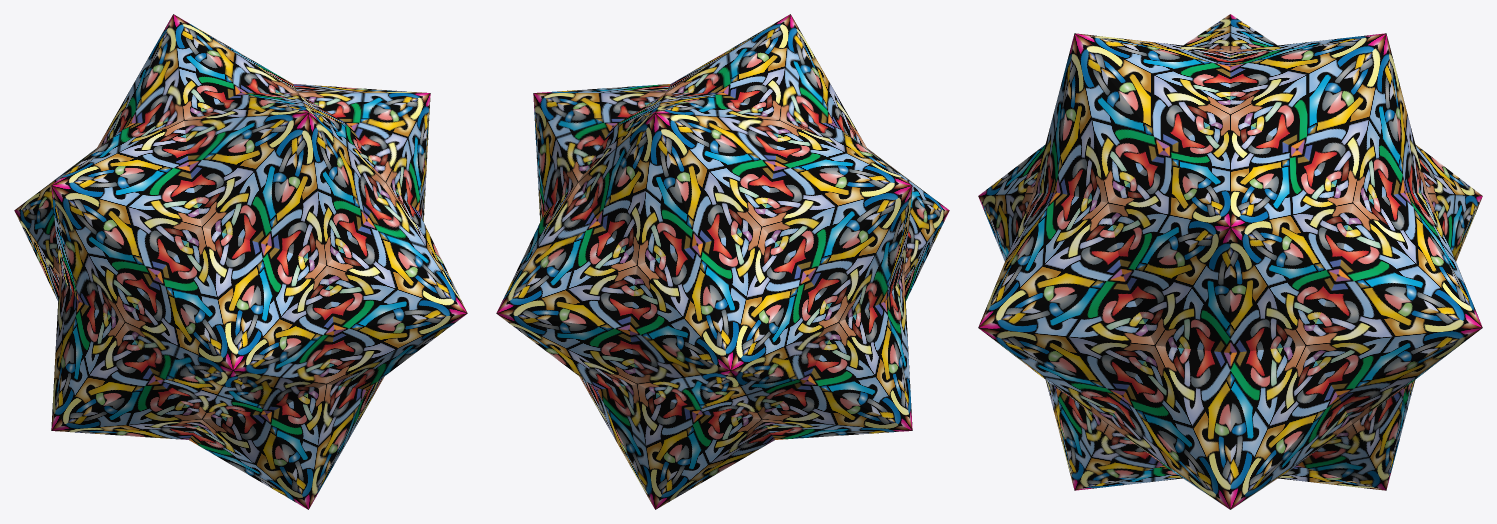
Rendered from 33SmallDodecacronicHexecontahedron.obj.
3 views of the same model, side by side, from view 1: azimuth 30°, elevation 25°; view 2: azimuth 150°, elevation 25°; view 3: azimuth 270°, elevation 25° (orthographic). The views are drawn at different scales.
Bounding box in the file's own units: 5.24 × 5.24 × 5.24.
Materials: 1 (1 with a texture image).
